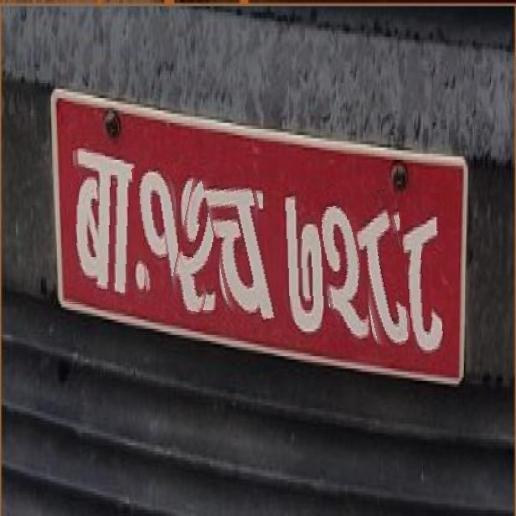1: (136, 165, 185, 315)
2: (319, 187, 369, 354), (173, 168, 224, 317)
7: (284, 194, 329, 341)
8: (354, 190, 414, 352), (401, 193, 457, 354)
ba: (68, 144, 137, 306)
cha: (208, 164, 275, 331)
